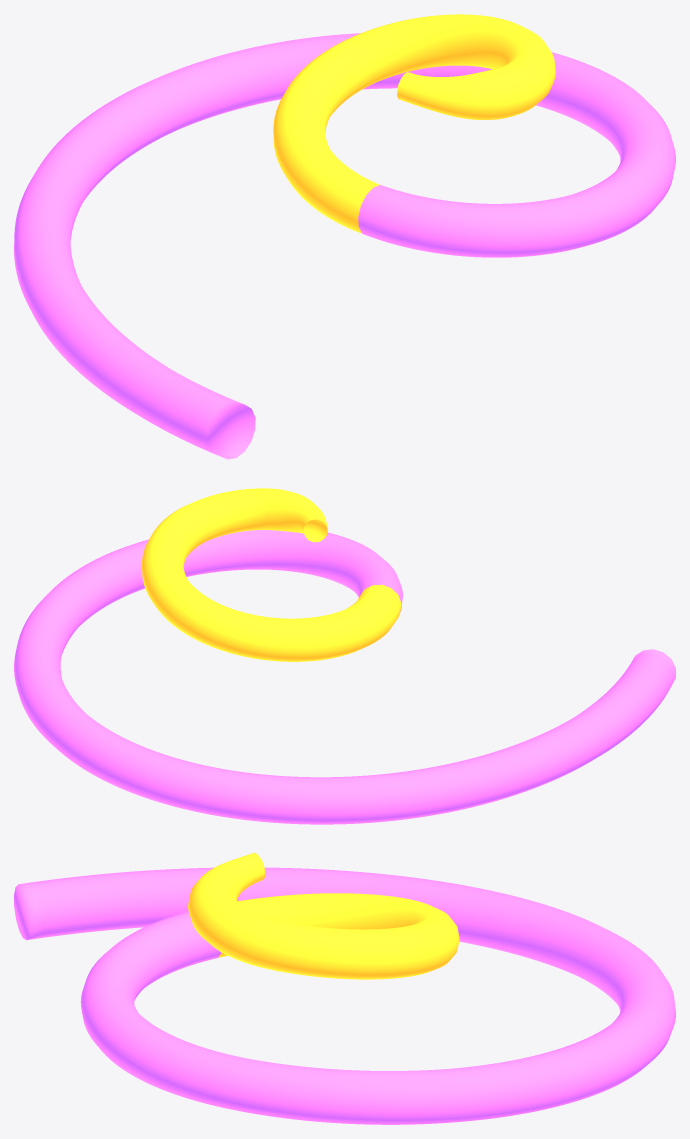
The model's file is schizodelphis_noodle.glb.
3 renders of one model, top to bottom at view 1: azimuth 30°, elevation 25°; view 2: azimuth 150°, elevation 25°; view 3: azimuth 270°, elevation 25°, orthographic. The views are drawn at different scales.
Parts seen in each view (by area): view 1: Schizodelphis | TURN COUNT NOODLE | T00_100, Schizodelphis | TURN COUNT NOODLE | T100_200; view 2: Schizodelphis | TURN COUNT NOODLE | T00_100, Schizodelphis | TURN COUNT NOODLE | T100_200; view 3: Schizodelphis | TURN COUNT NOODLE | T00_100, Schizodelphis | TURN COUNT NOODLE | T100_200.
Boxes of the visible parts, bbox=[...] form: Schizodelphis | TURN COUNT NOODLE | T00_100: bbox=[14, 33, 675, 459]; Schizodelphis | TURN COUNT NOODLE | T100_200: bbox=[273, 14, 555, 233]; Schizodelphis | TURN COUNT NOODLE | T00_100: bbox=[14, 530, 675, 824]; Schizodelphis | TURN COUNT NOODLE | T100_200: bbox=[142, 488, 401, 661]; Schizodelphis | TURN COUNT NOODLE | T00_100: bbox=[14, 867, 675, 1124]; Schizodelphis | TURN COUNT NOODLE | T100_200: bbox=[188, 853, 459, 979].
Size of the model in its own units: 7.26 by 2.59 by 6.94.
